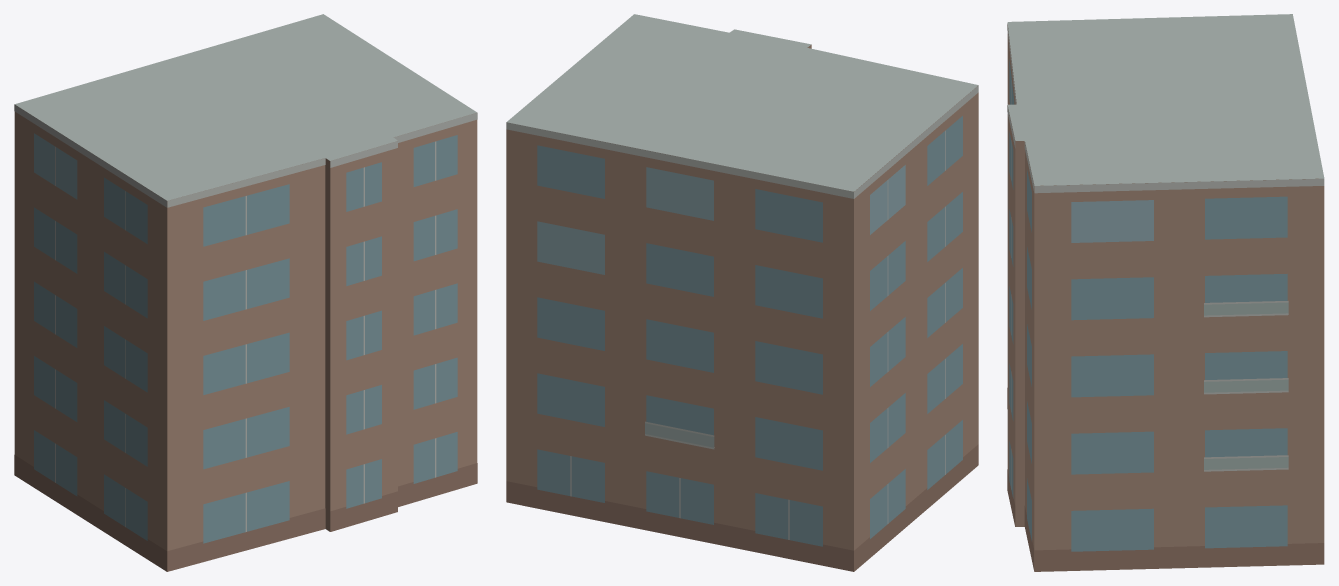
The model's file is survey-upis-32964905.glb.
3 views of the same model, side by side, from view 1: azimuth 30°, elevation 25°; view 2: azimuth 150°, elevation 25°; view 3: azimuth 270°, elevation 25° (orthographic). The views are drawn at different scales.
Parts seen in each view (by area): view 1: survey-upis-32964905.tmp; view 2: survey-upis-32964905.tmp; view 3: survey-upis-32964905.tmp.
Part boxes in pixels (bbox=[...]): survey-upis-32964905.tmp: bbox=[14, 14, 477, 571]; survey-upis-32964905.tmp: bbox=[506, 14, 978, 571]; survey-upis-32964905.tmp: bbox=[1007, 14, 1324, 571].
Size of the model in its own units: 12.33 by 12.9 by 9.61.
